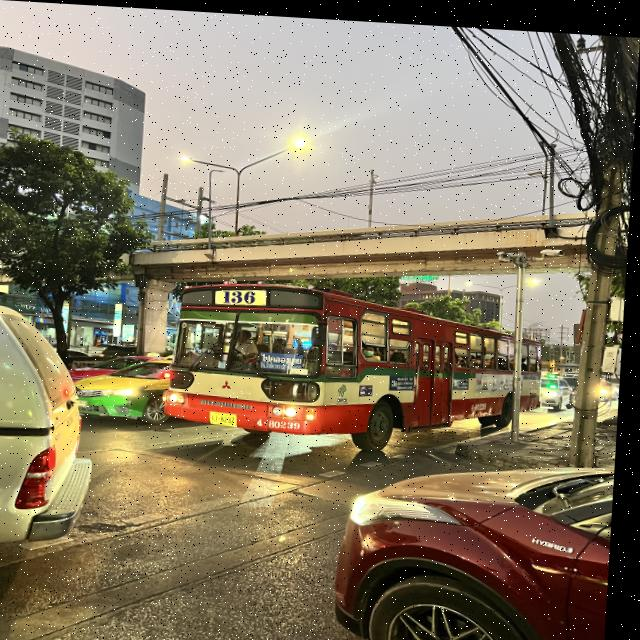BMTA-bus: (166, 280, 522, 452)
Bus Line Number: (218, 285, 270, 303)
Bus Side Number: (259, 414, 308, 427)
Destination Sign: (263, 348, 307, 368)
